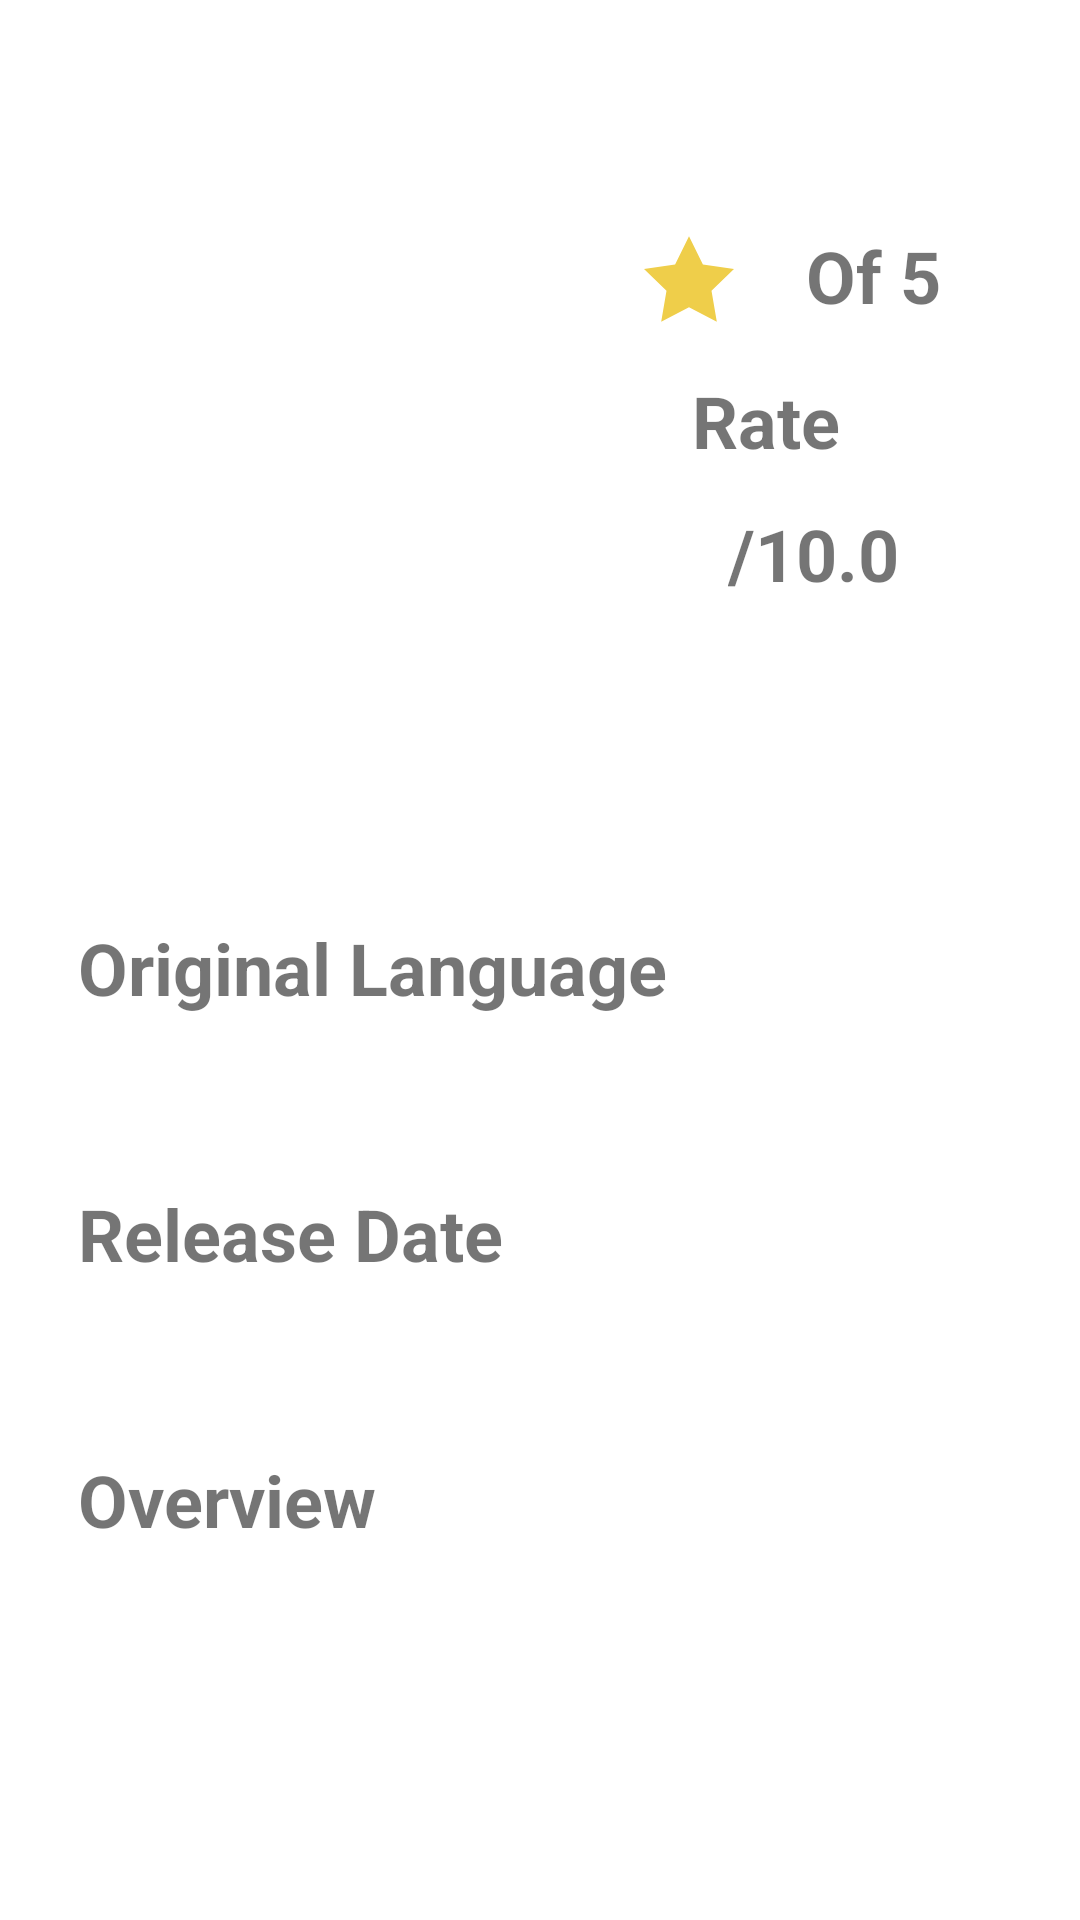

Icons on this 1080*1920 Android screen, each with the point to tap as [x,y]:
star: [689,279]
